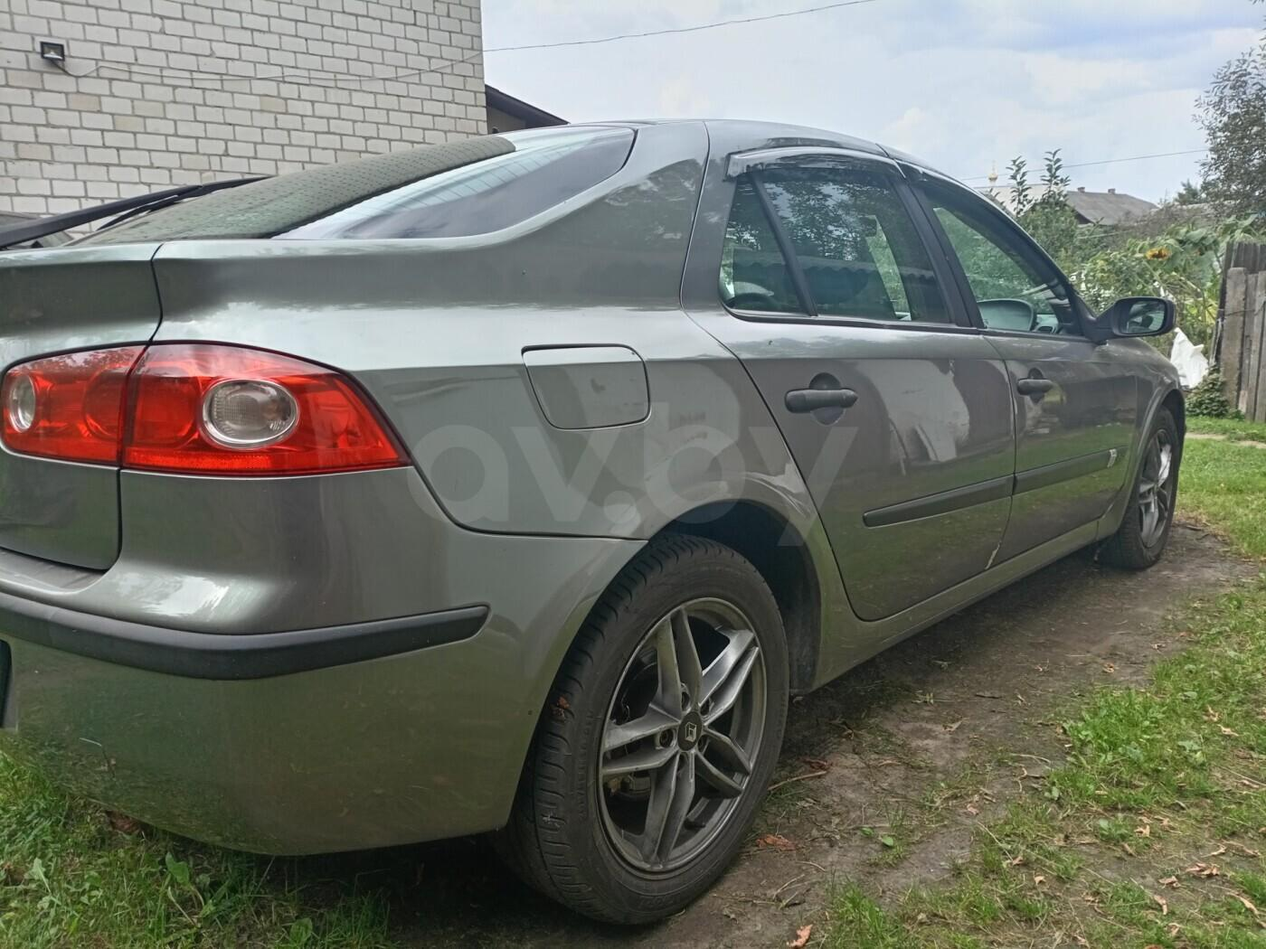Laguna_2005-2007: (0, 101, 1196, 923)
